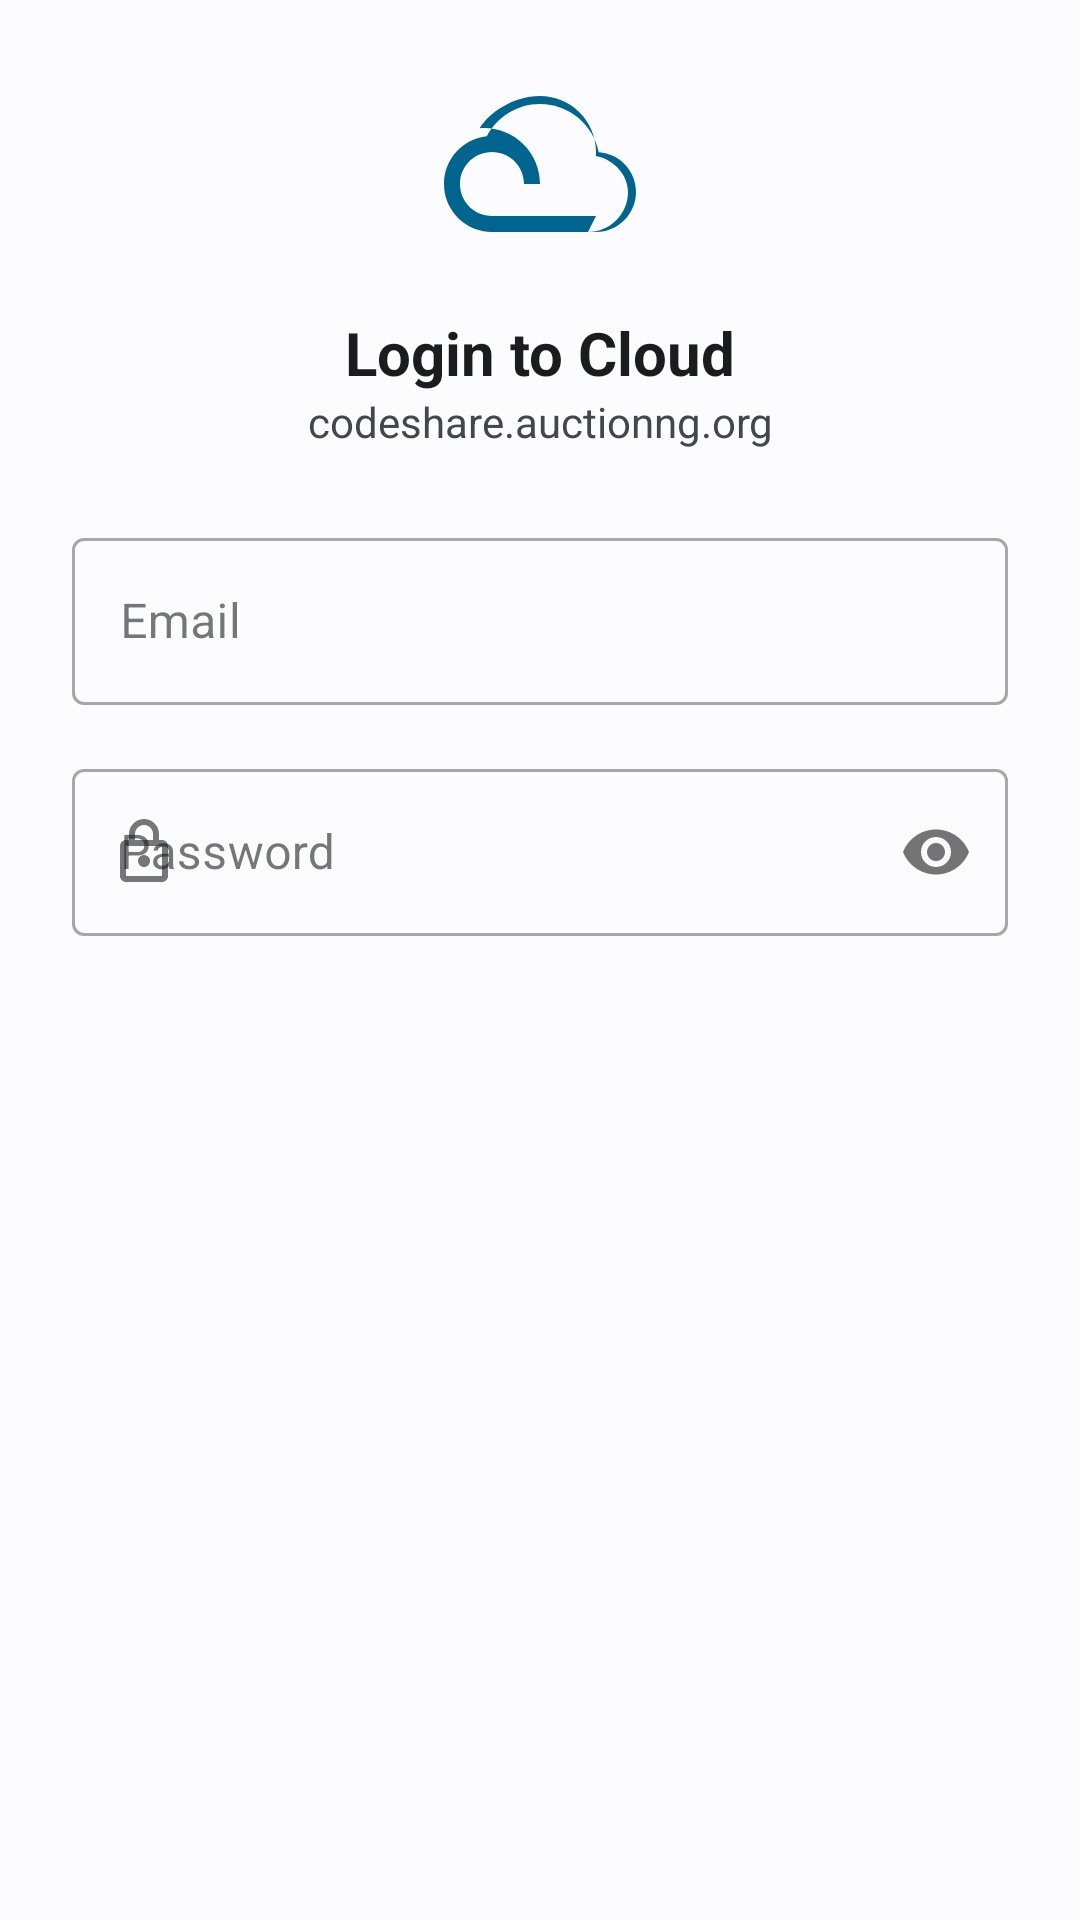

Screen size 1080 x 1920. Icon name, then its box in pixels as box(x1, y1, x2, y2):
cloud queue: box(444, 96, 636, 232)
